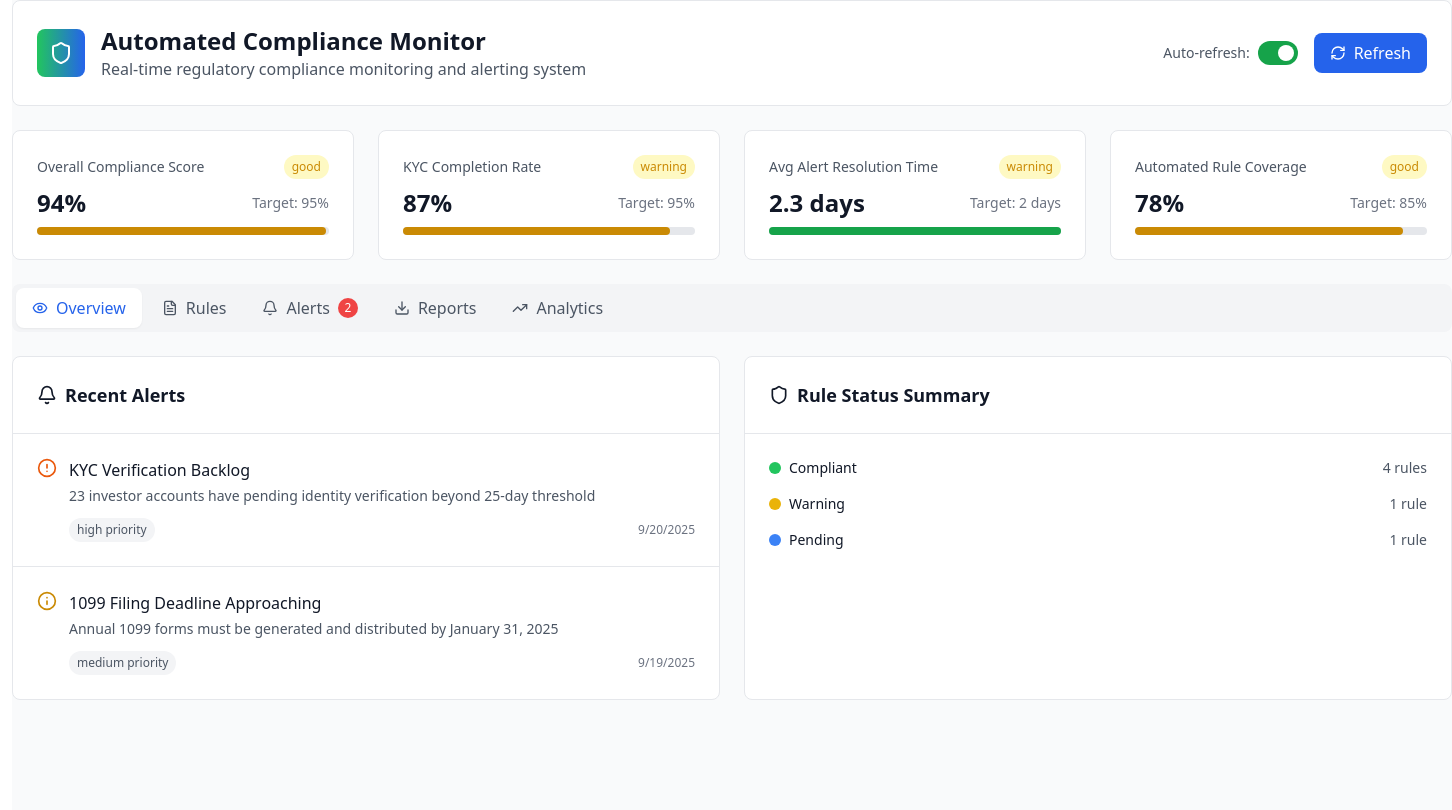
AutomatedComplianceMonitor › shows rule status indicators
Click the button "Rules": (194, 308) x1=146 y1=288 x2=242 y2=328
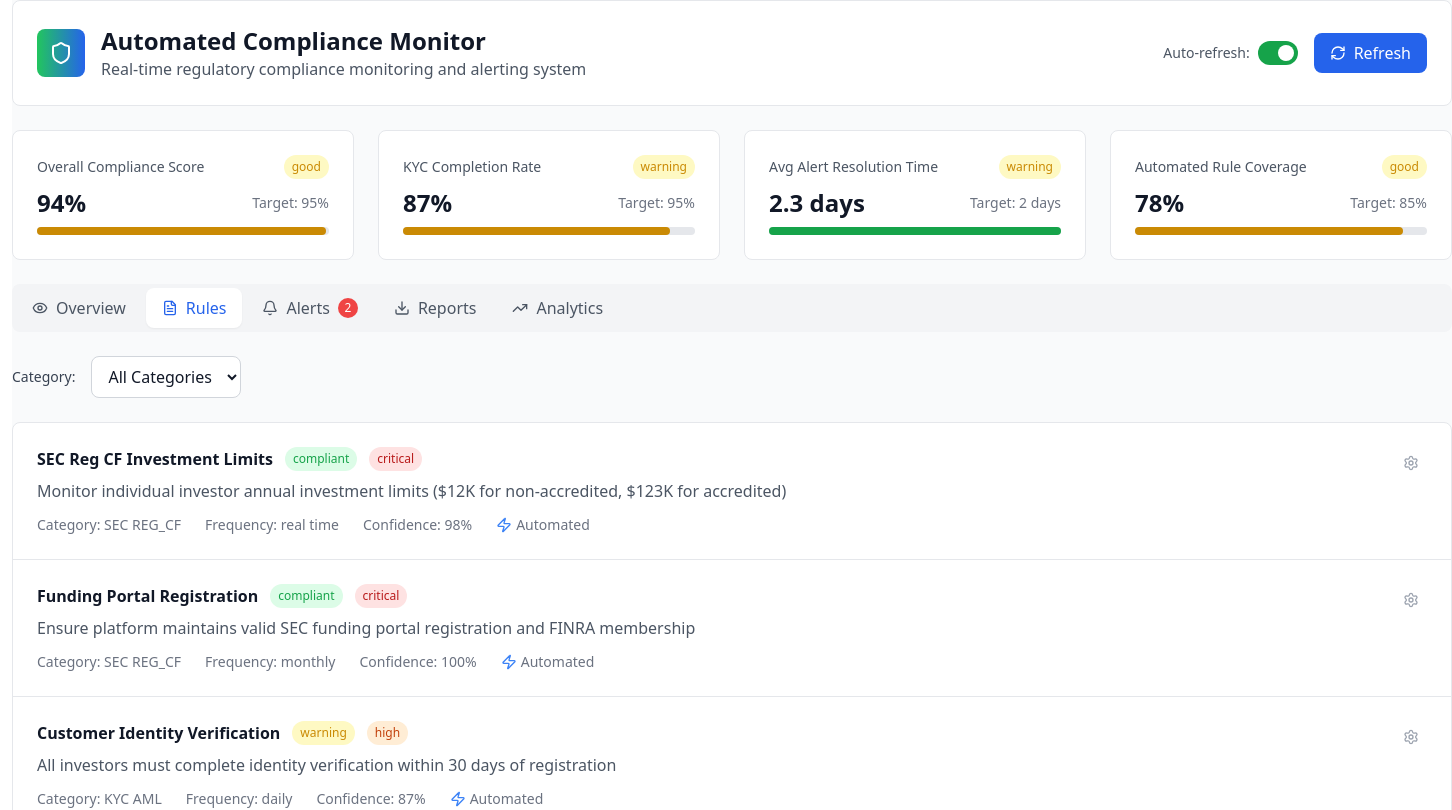
Result: the text "compliant" is shown 4 times
Result: the text "warning" is shown 3 times at x1=633 y1=155 x2=695 y2=179; x1=999 y1=155 x2=1061 y2=179; x1=292 y1=721 x2=355 y2=745
